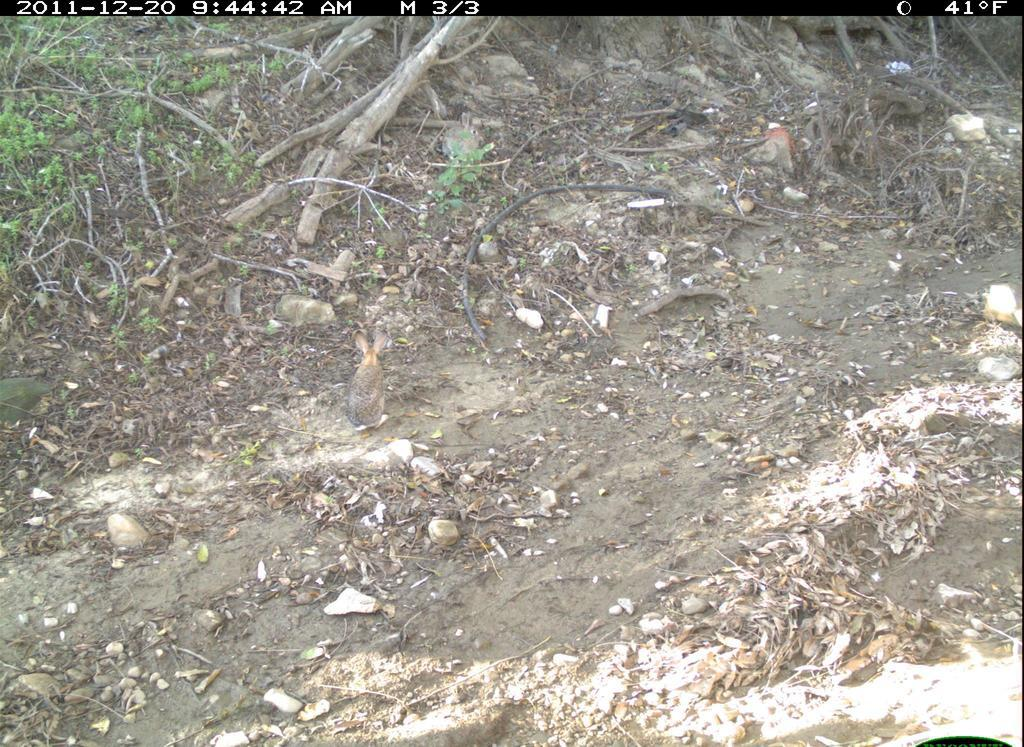rabbit: (331, 321, 409, 442)
